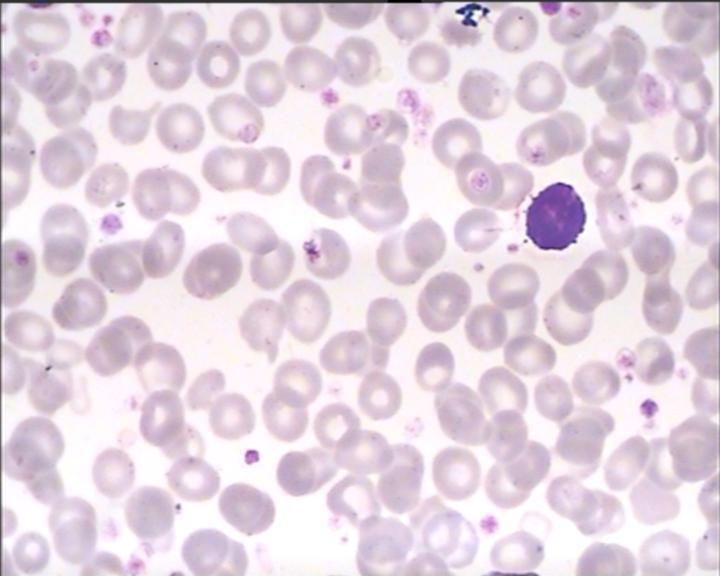baso: (521, 176, 588, 255)
